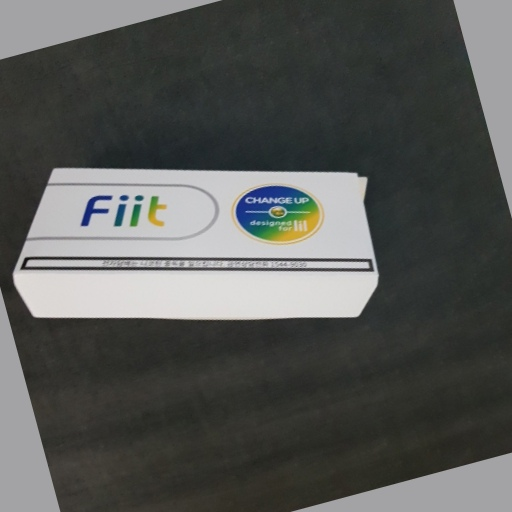Paper_0: (13, 159, 383, 328)
